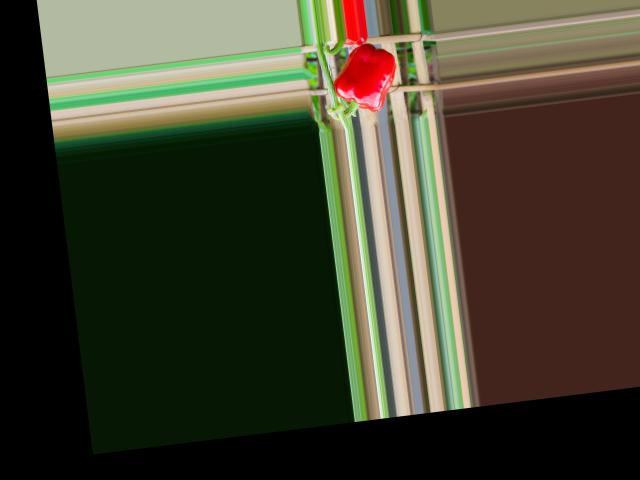bell_pepper: (324, 40, 406, 117)
